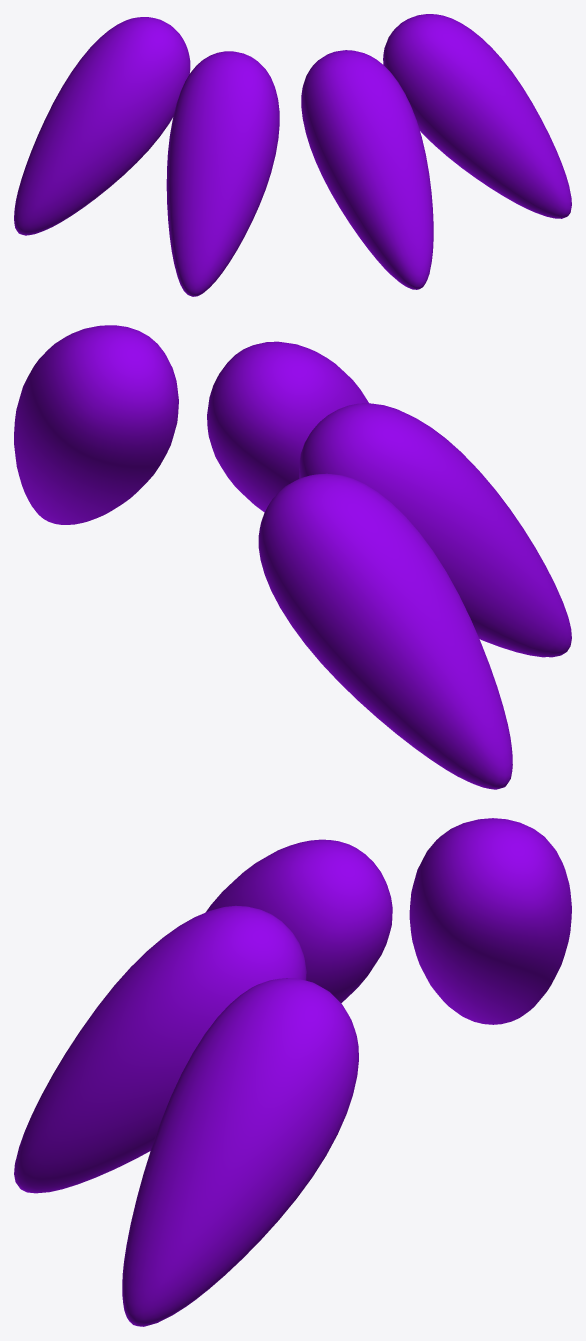
Rendered from legstest.fbx.
3 renders of one model, top to bottom at view 1: azimuth 30°, elevation 25°; view 2: azimuth 150°, elevation 25°; view 3: azimuth 270°, elevation 25°, orthographic. The views are drawn at different scales.
Parts seen in each view (by area): view 1: Cube.001; view 2: Cube.001; view 3: Cube.001.
Boxes of the visible parts, x1=… form: Cube.001: x1=14, y1=14, x2=571, y2=296; Cube.001: x1=14, y1=325, x2=571, y2=789; Cube.001: x1=14, y1=818, x2=571, y2=1326.
Bounding box in the file's own units: 183 × 73.35 × 133.
